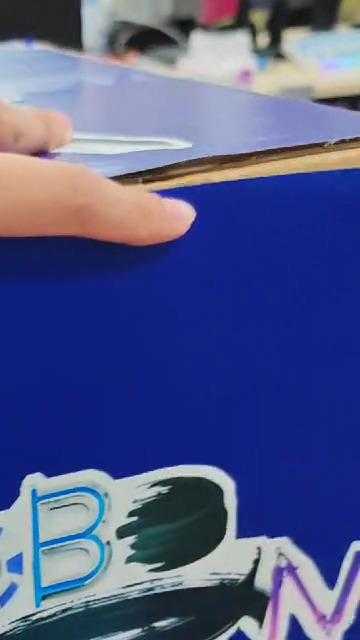B_R1: (0, 443, 359, 640)
